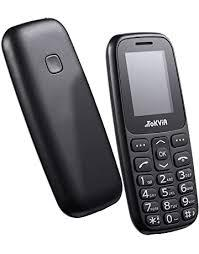Smartphone: (9, 16, 113, 213), (119, 21, 196, 235)
